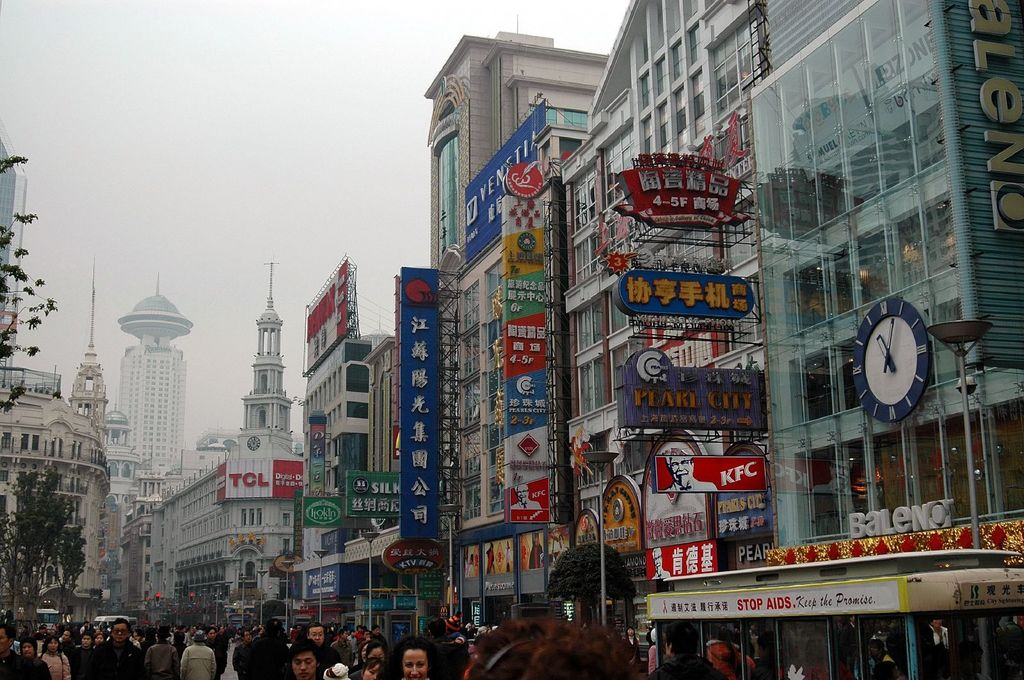cantilever: (500, 166, 570, 526), (400, 265, 459, 540), (605, 150, 753, 248), (615, 351, 771, 439), (608, 256, 765, 343), (649, 454, 769, 493), (347, 468, 402, 523)
signboard: (843, 500, 958, 536), (213, 461, 302, 501), (641, 509, 708, 542), (713, 495, 770, 532), (644, 547, 717, 573)
